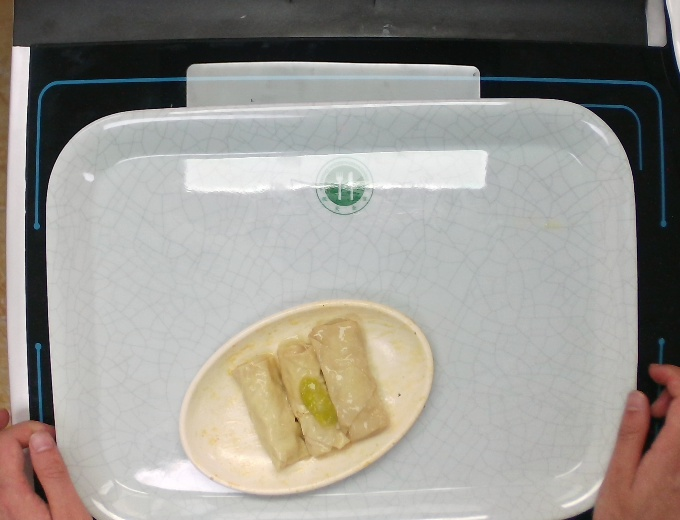JYsf-Tuo_Yuan_Wan: (177, 296, 436, 498)
